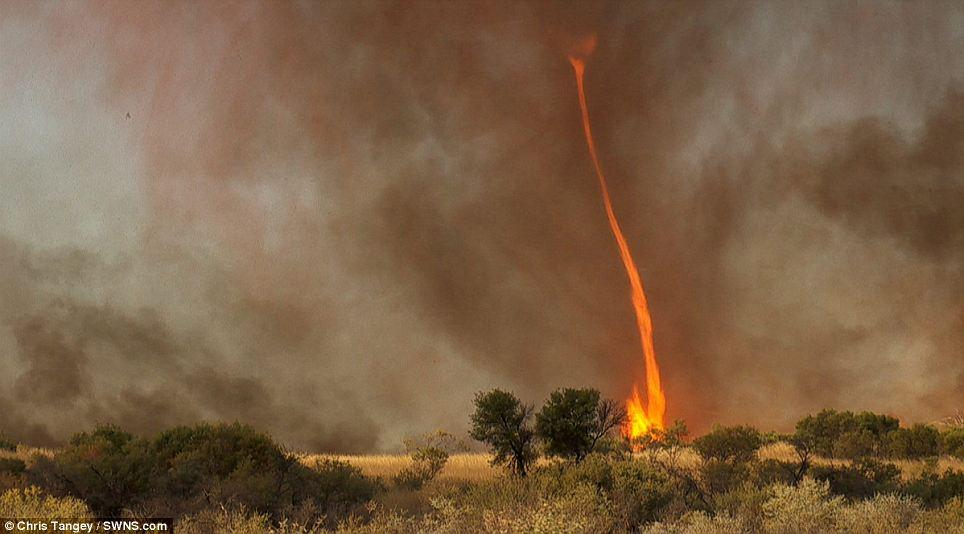fire: (563, 39, 669, 439)
yanwu: (2, 0, 964, 436)
